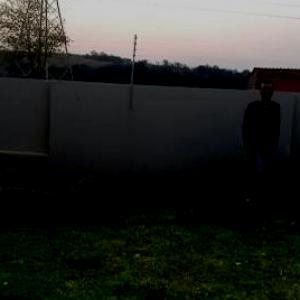follow: (230, 76, 286, 203)
